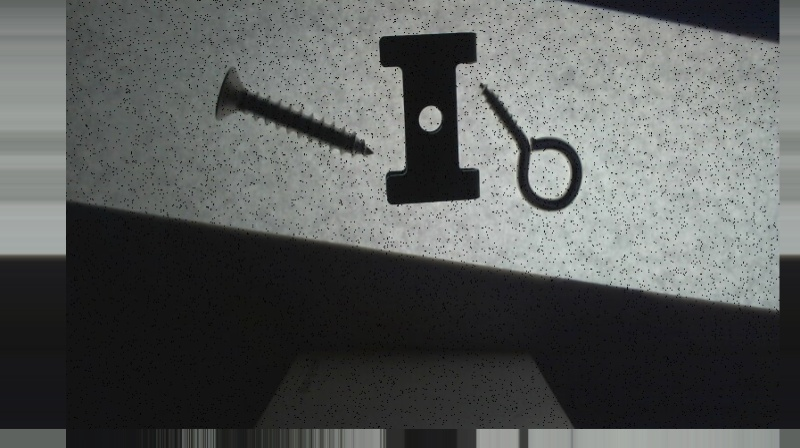O001: (479, 80, 584, 212)
O002: (375, 30, 484, 204)
S001: (213, 66, 376, 160)
